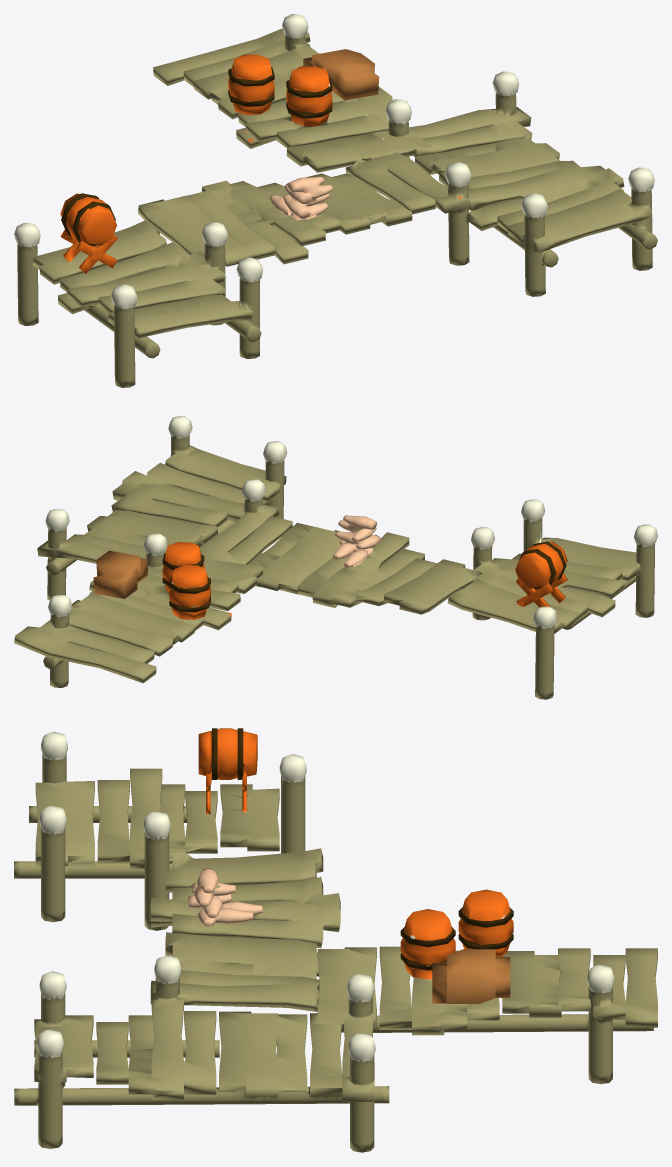
Rendered from dock.fbx.
3 views of the same model, one above another, from view 1: azimuth 30°, elevation 25°; view 2: azimuth 150°, elevation 25°; view 3: azimuth 270°, elevation 25° (orthographic). The views are drawn at different scales.
Visible parts, largest first — view 1: unamed; view 2: unamed; view 3: unamed.
Boxes of the visible parts, x1=… form: unamed: x1=14, y1=14, x2=657, y2=387; unamed: x1=14, y1=416, x2=657, y2=699; unamed: x1=14, y1=728, x2=657, y2=1152.
Size of the model in its own units: 1.06 by 0.2547 by 0.9452.
1 material, 1 textured.
